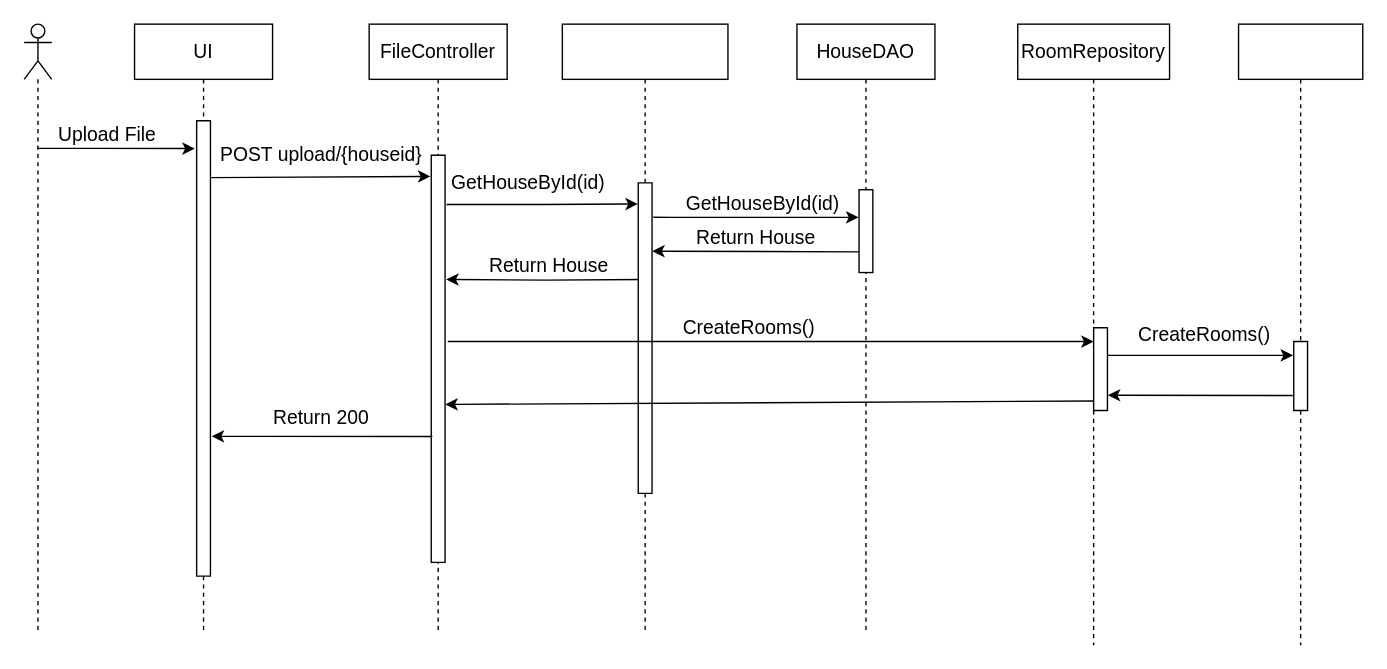
This 1387x669 diagram has some shape labels left out. Each missing label, with the box of its shape:
HouseRepository: (561, 23, 728, 631)
RoomDAO: (1237, 23, 1363, 645)
